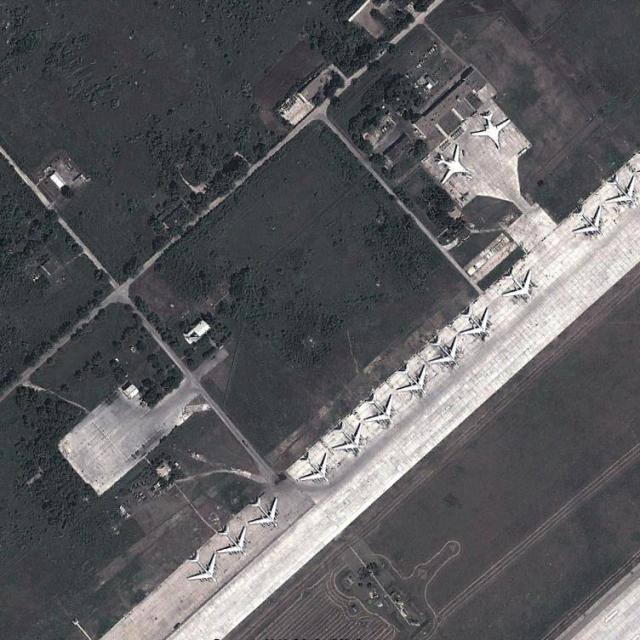fighter jet: (430, 144, 470, 183), (470, 114, 509, 148), (501, 266, 536, 302), (331, 422, 363, 459), (292, 453, 329, 484), (570, 204, 604, 237), (606, 173, 638, 208), (183, 550, 219, 581), (428, 334, 460, 366), (397, 363, 426, 395), (462, 305, 490, 338), (250, 496, 278, 528), (216, 528, 244, 559), (365, 396, 392, 423)
